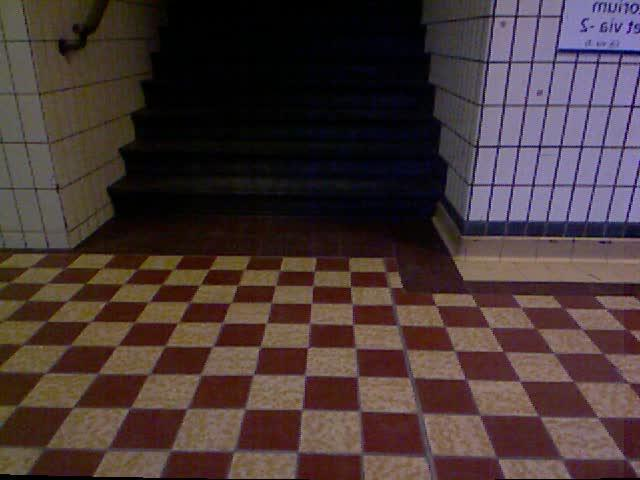Escaleras: (119, 0, 439, 222)
